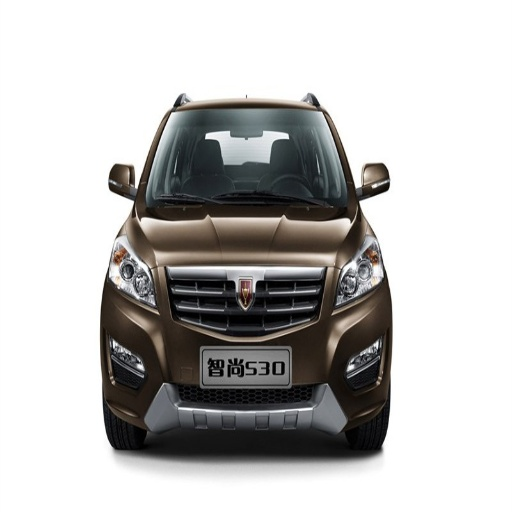front_bumper: (104, 266, 390, 433)
front_right_light: (109, 236, 158, 310)
hood: (137, 204, 358, 317)
